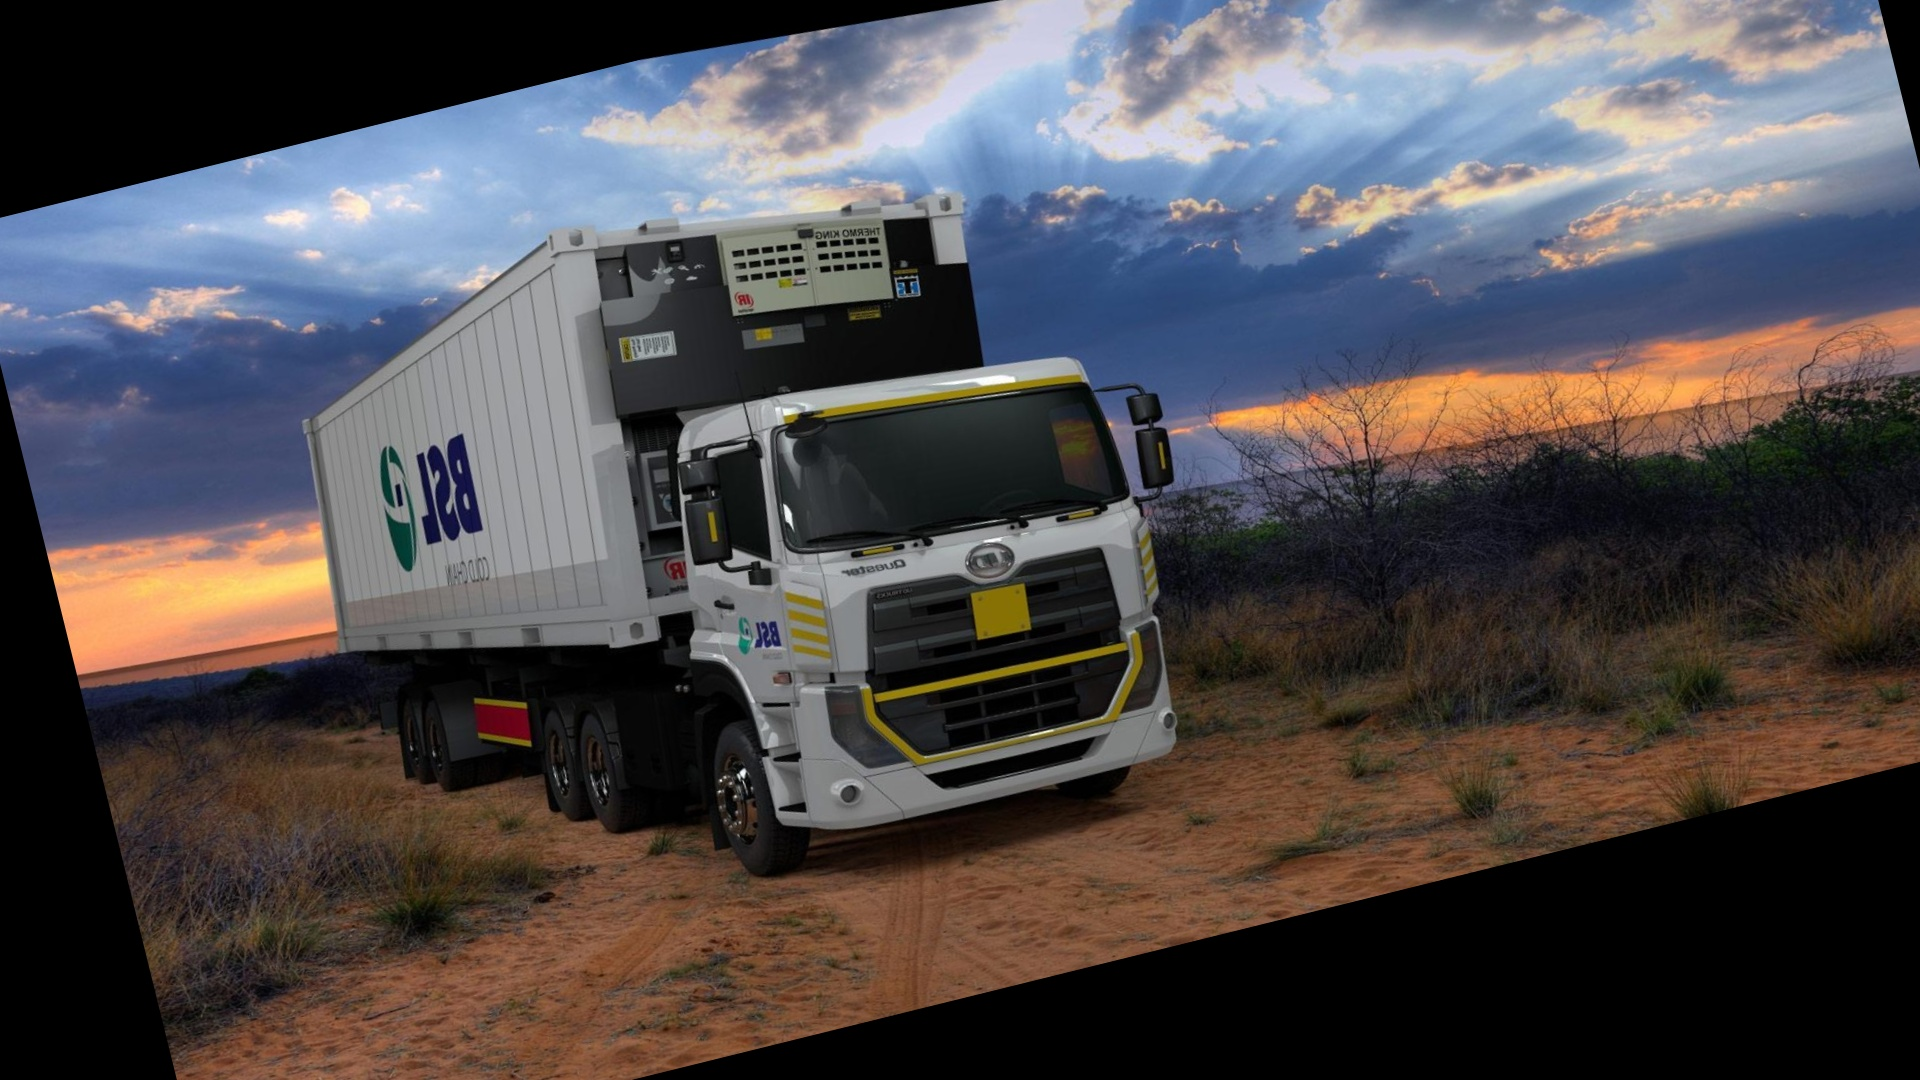truck: (225, 83, 1254, 1009)
